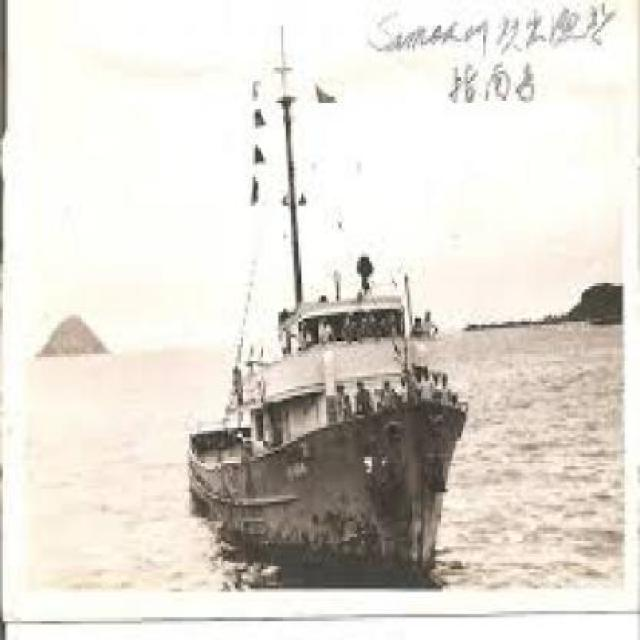fish-b: (168, 20, 485, 577)
